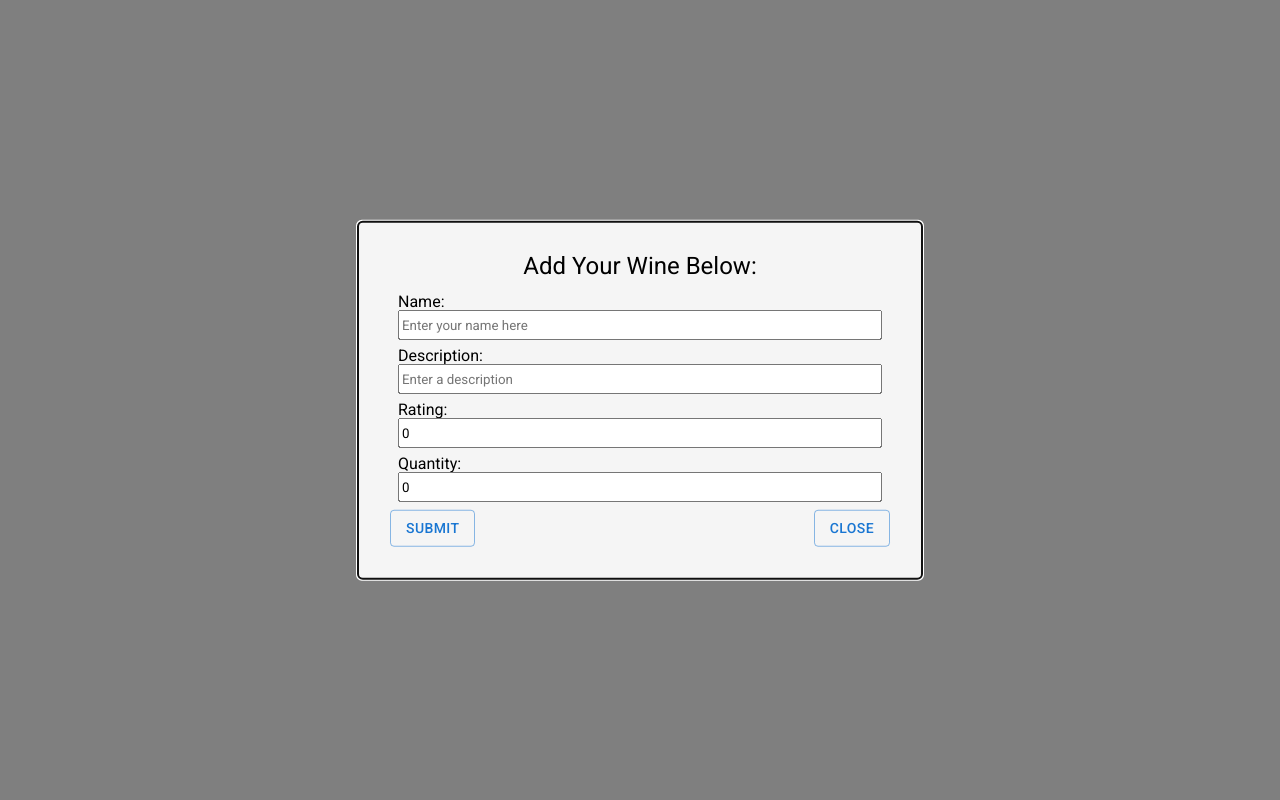
display successful form submittion message upon submitting form correctly
Type "Some Wine" into the field with test id "form-name-id" at point(640, 325), box [398,310,882,340]
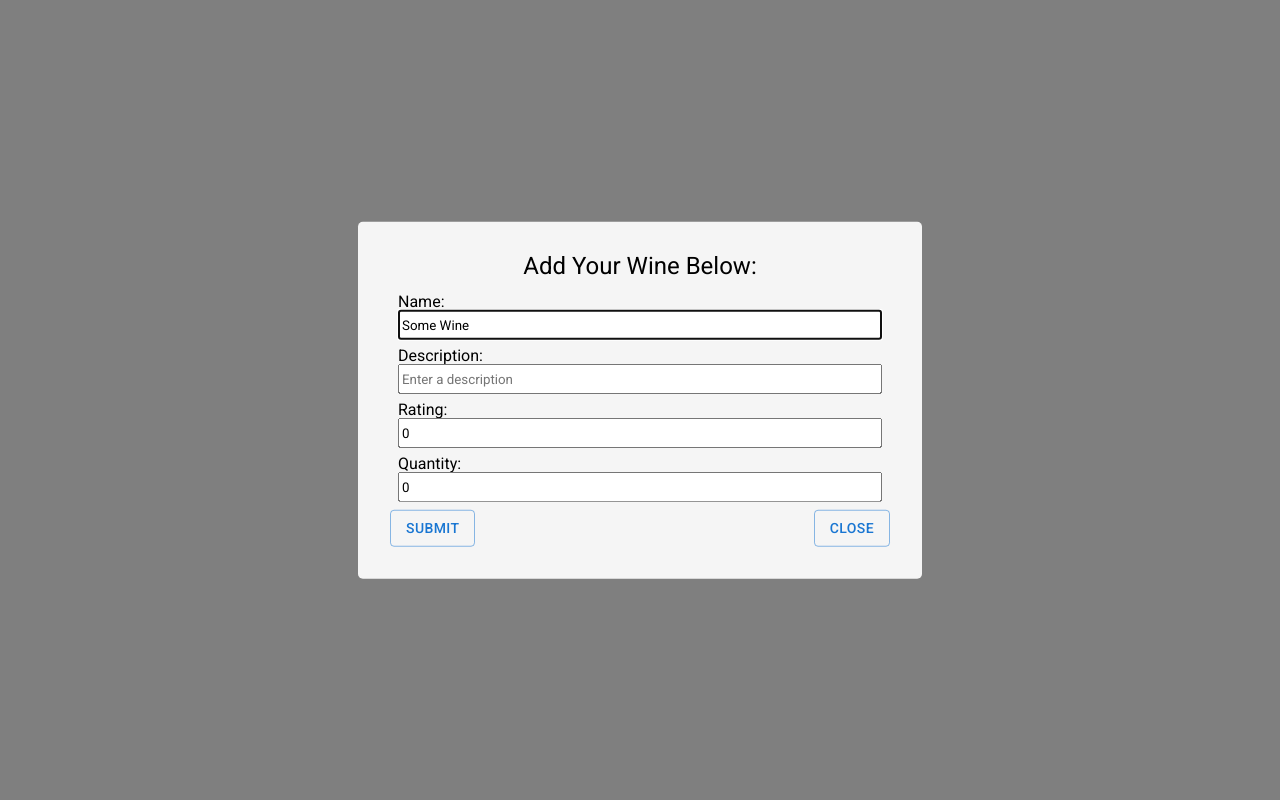
Type "Some wine description" into the field with test id "form-description-id" at point(640, 379), box [398,364,882,394]
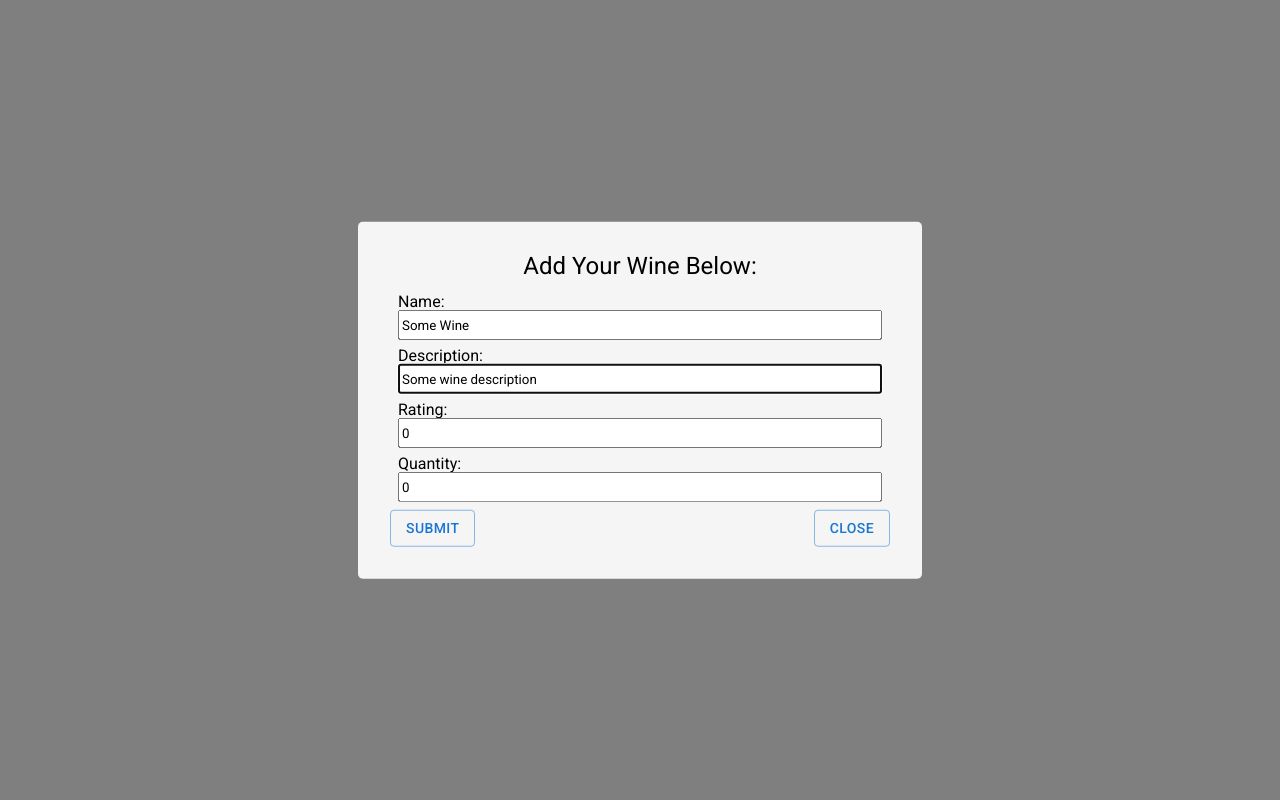
Type "1" into the number field with test id "form-rating-id" at point(640, 433), box [398,418,882,448]
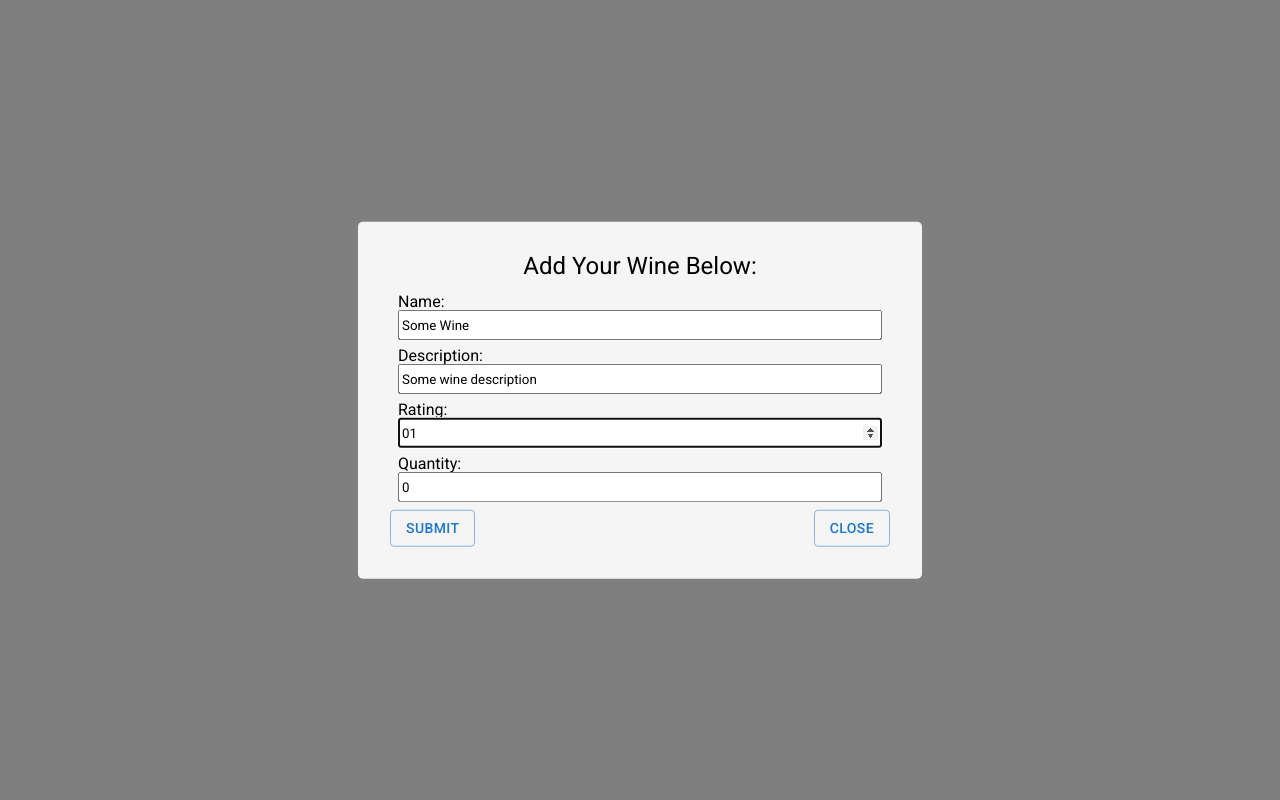
Type "1" into the number field with test id "form-quantity-id" at point(640, 487), box [398,472,882,502]
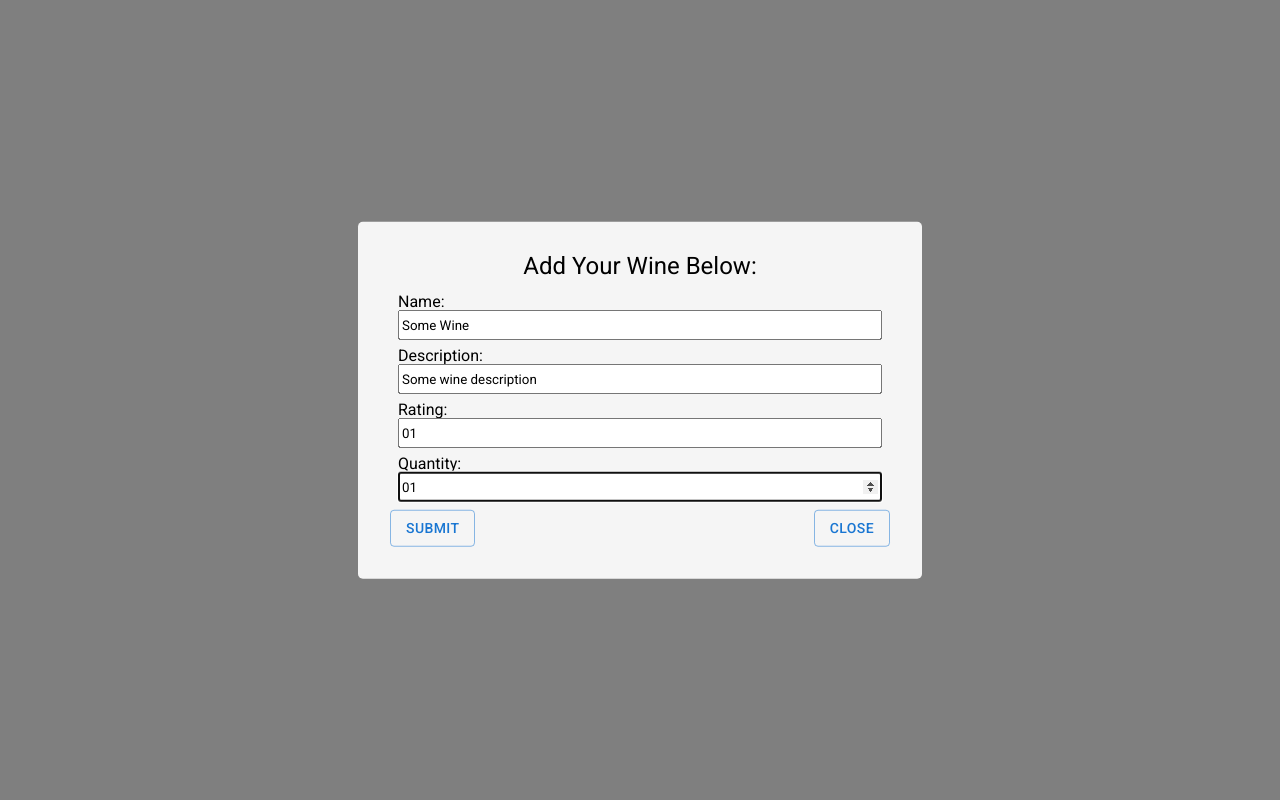
Click the button "Submit" at point(433, 528), box [390,510,475,546]
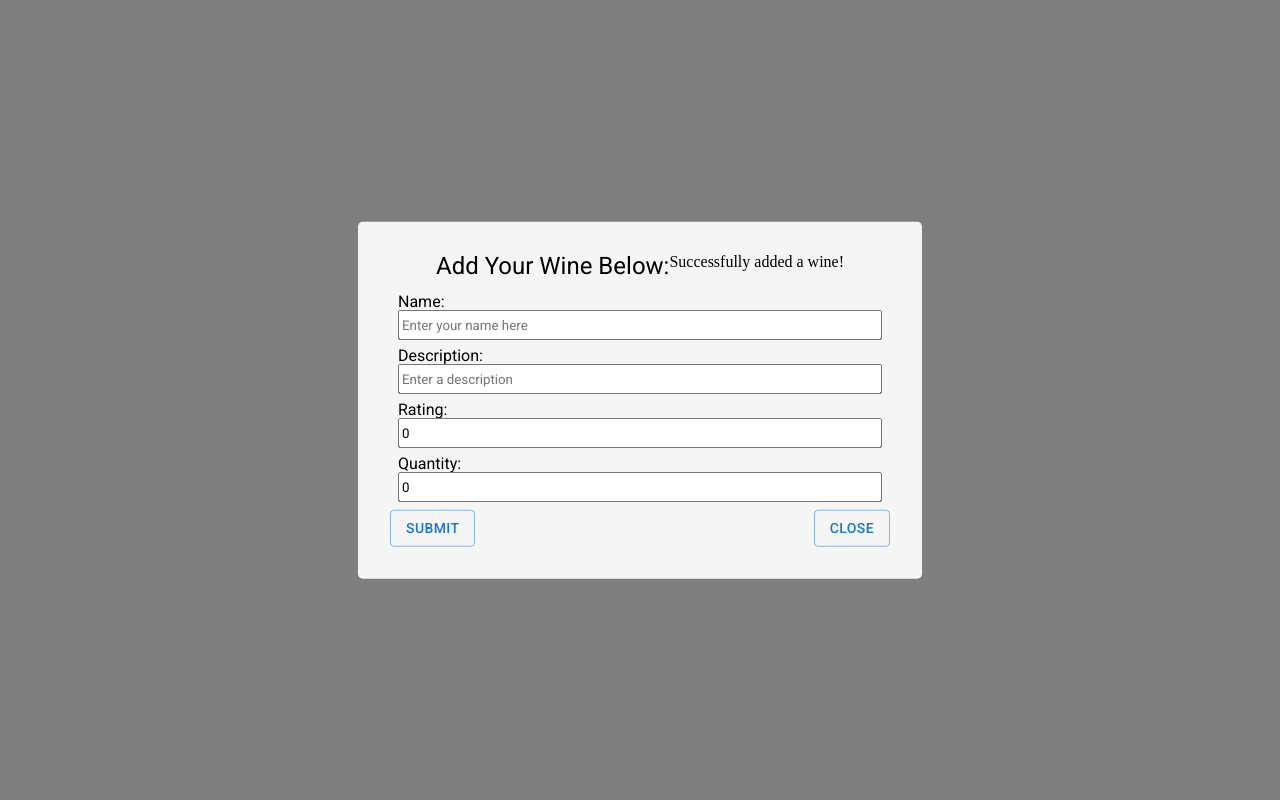
expect the text "Successfully added a wine!" is shown: met, box [669,254,844,278]
